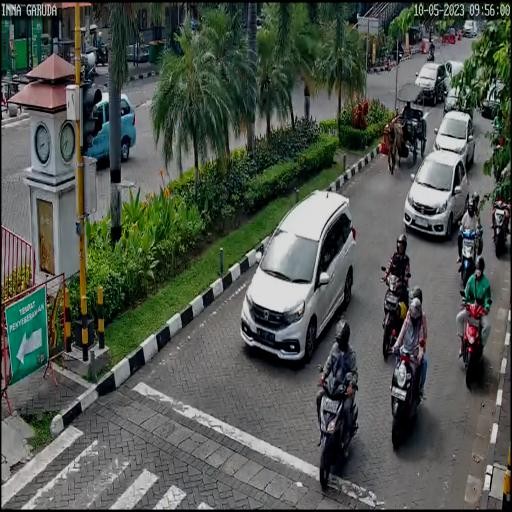mobil: (238, 192, 358, 367), (399, 151, 470, 244), (433, 109, 476, 165)
motor: (312, 356, 365, 512), (384, 326, 427, 460), (455, 256, 491, 388), (374, 252, 414, 344), (456, 213, 482, 286), (490, 192, 510, 252)
